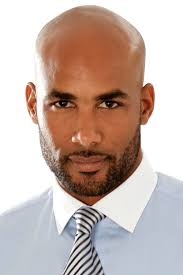person: (23, 3, 155, 196)
